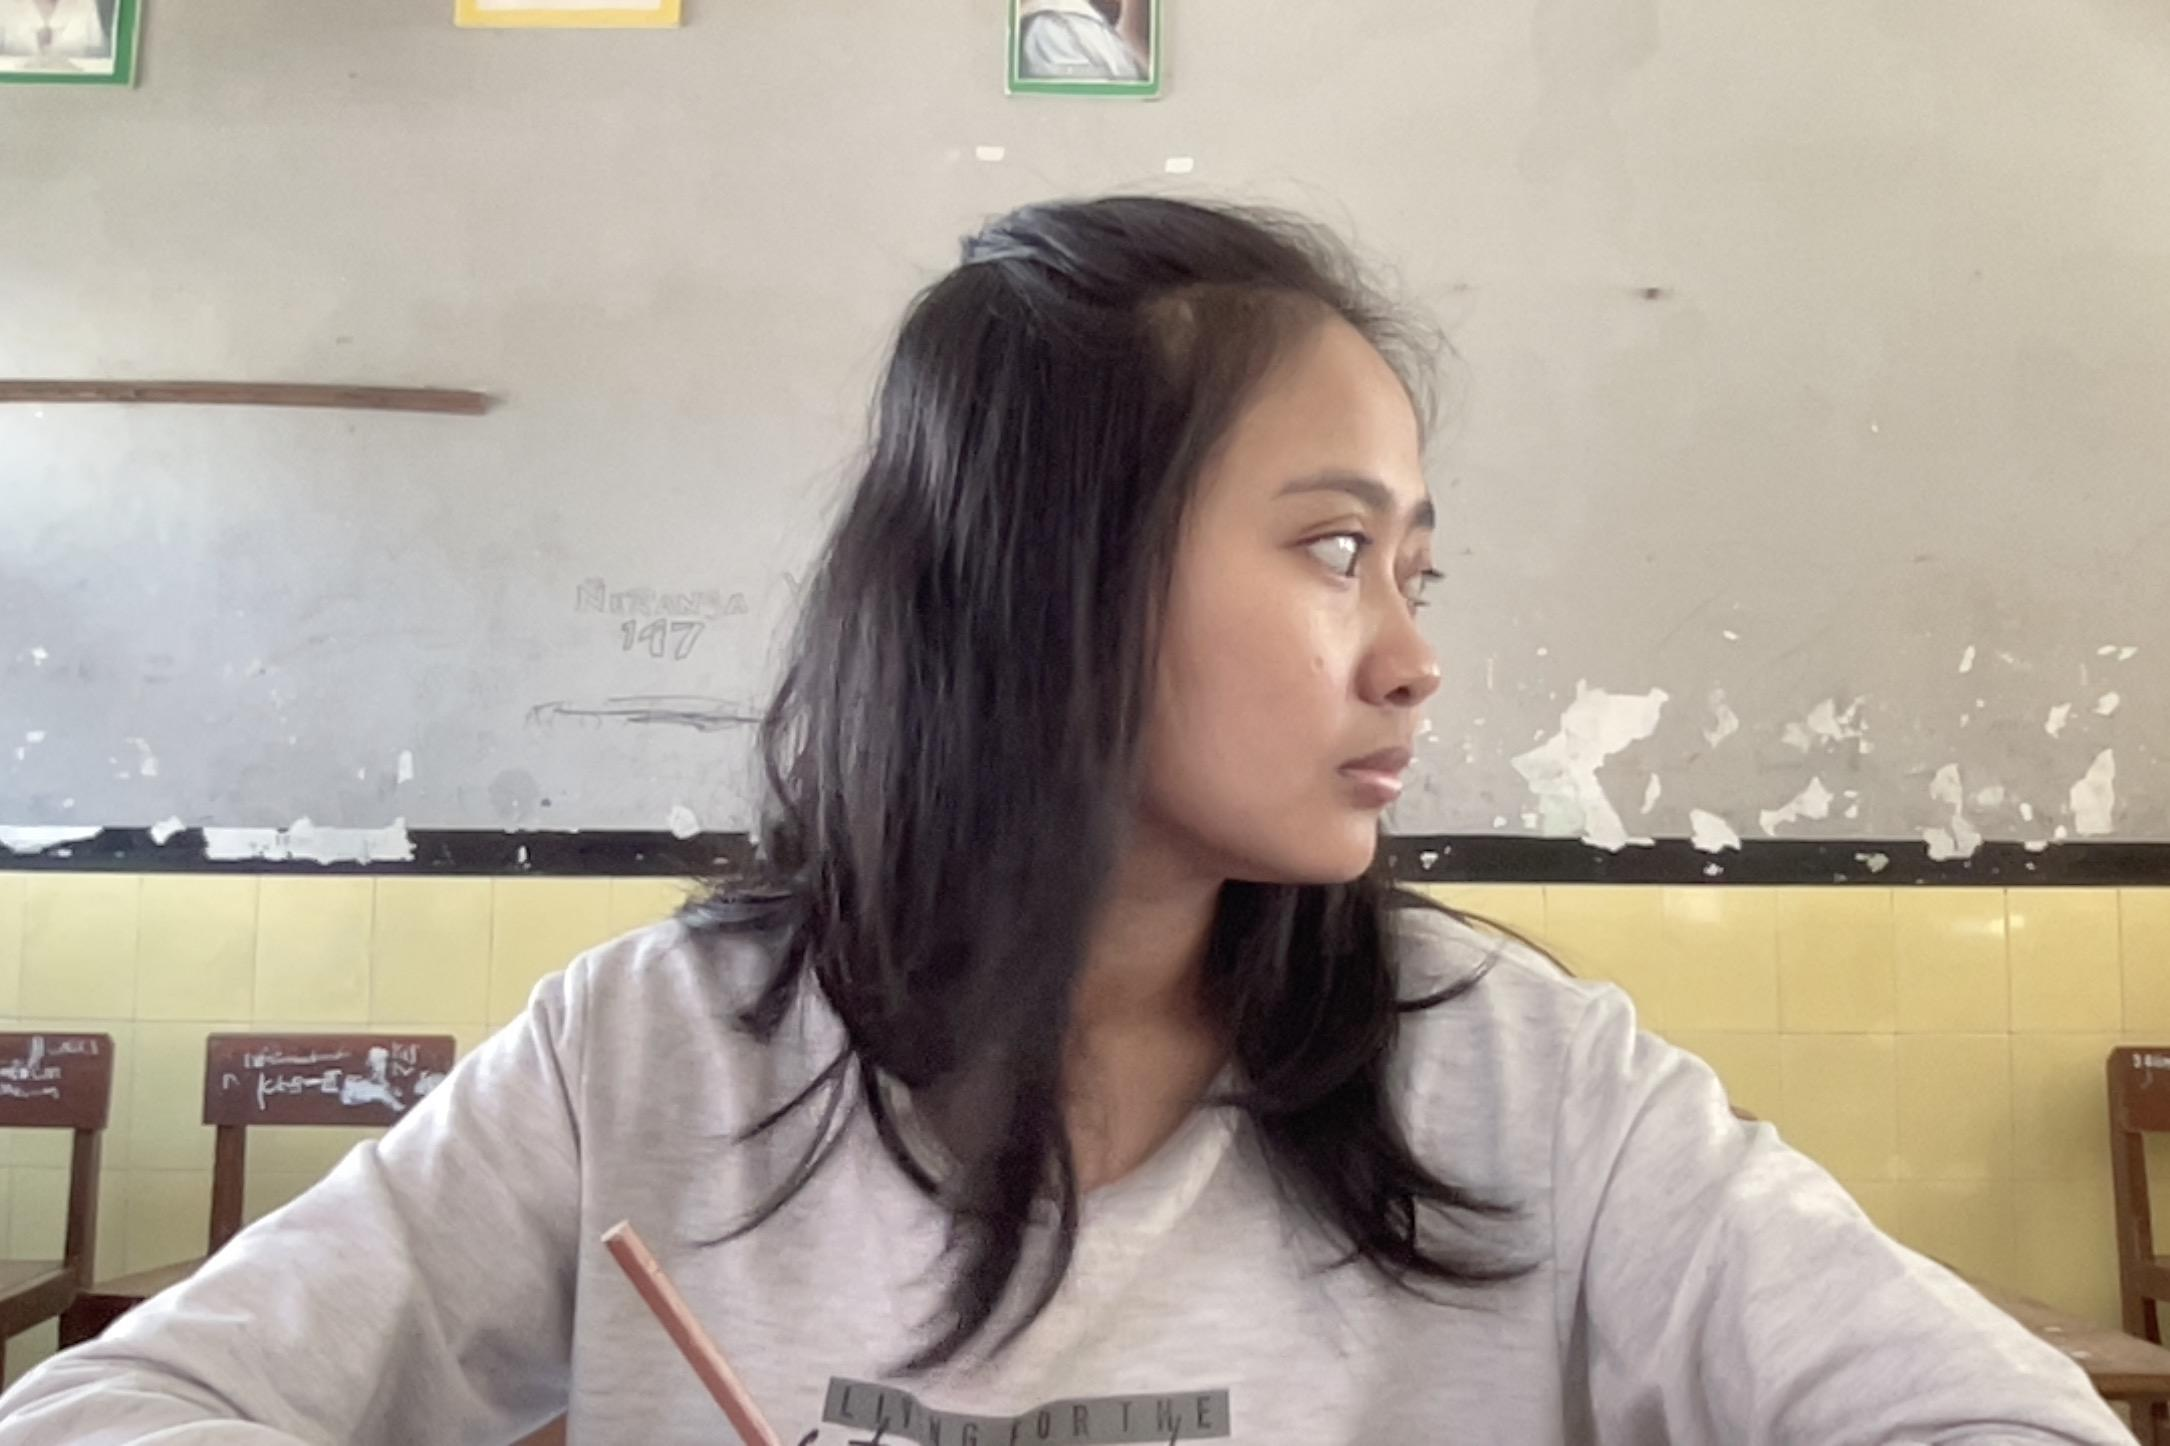cheating: (0, 118, 2170, 1446)
